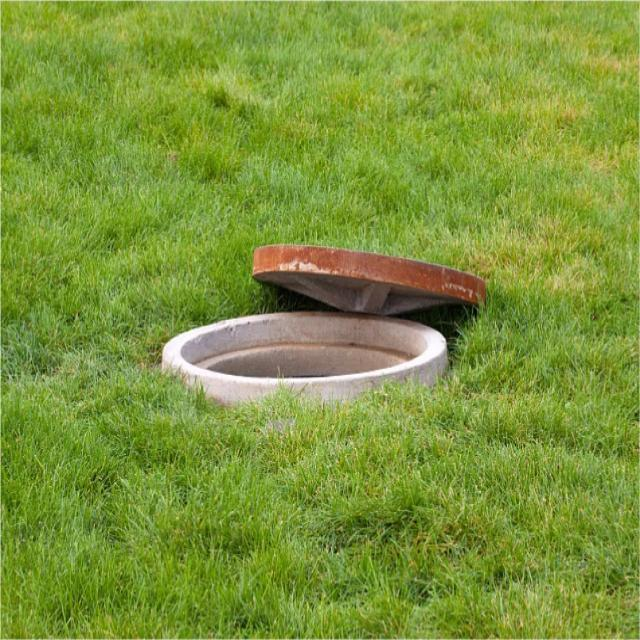manhole: (161, 246, 489, 408)
